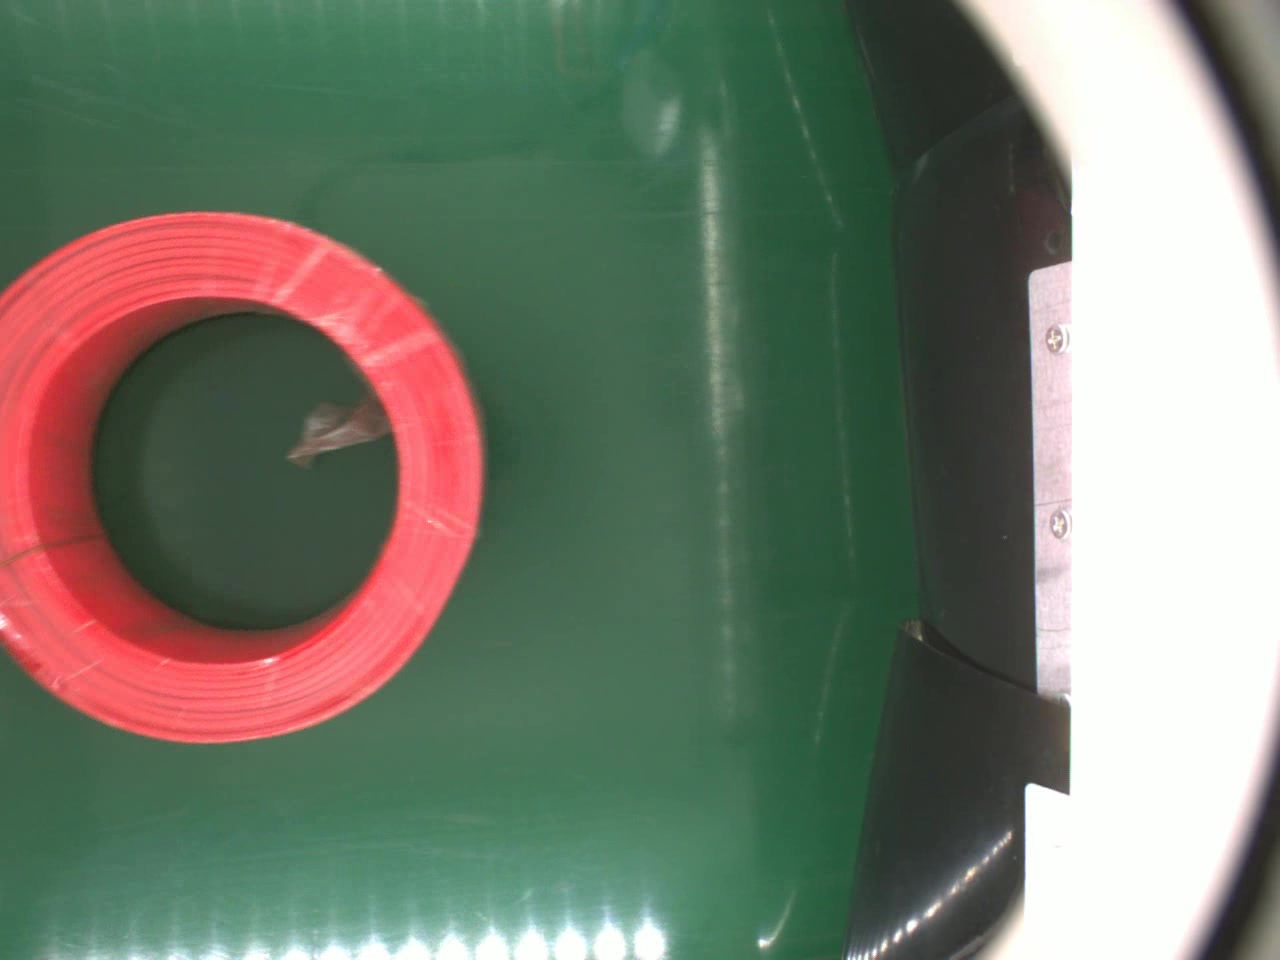red: (0, 211, 486, 742)
